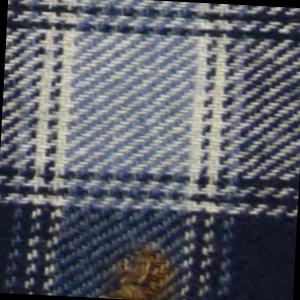Damage: (112, 248, 171, 300)
Oil Stain: (91, 239, 184, 300)
